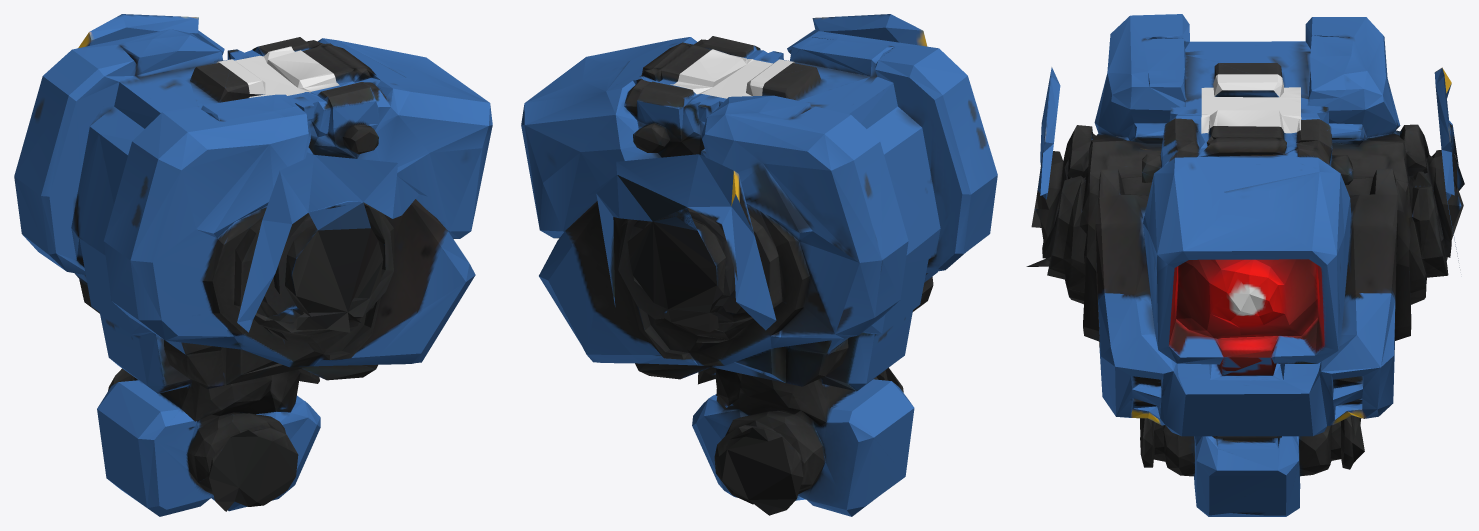
File: SM_HeavyDebris_Torso.fbx
The picture shows the model from 3 angles, left to right: view 1: azimuth 30°, elevation 25°; view 2: azimuth 150°, elevation 25°; view 3: azimuth 270°, elevation 25°; orthographic projection. The views are drawn at different scales.
Visible parts, largest first — view 1: SM_HeavyDebris_Torso, Z_Emblem; view 2: SM_HeavyDebris_Torso, Z_Emblem; view 3: SM_HeavyDebris_Torso, Z_Emblem.
Boxes of the visible parts, x1=… form: SM_HeavyDebris_Torso: x1=14, y1=14, x2=492, y2=516; Z_Emblem: x1=216, y1=46, x2=339, y2=97; SM_HeavyDebris_Torso: x1=521, y1=14, x2=997, y2=516; Z_Emblem: x1=670, y1=49, x2=794, y2=98; SM_HeavyDebris_Torso: x1=1026, y1=14, x2=1464, y2=516; Z_Emblem: x1=1201, y1=74, x2=1301, y2=133.
Bounding box in the file's own units: 138 × 146 × 132.
2 materials, 1 textured.
